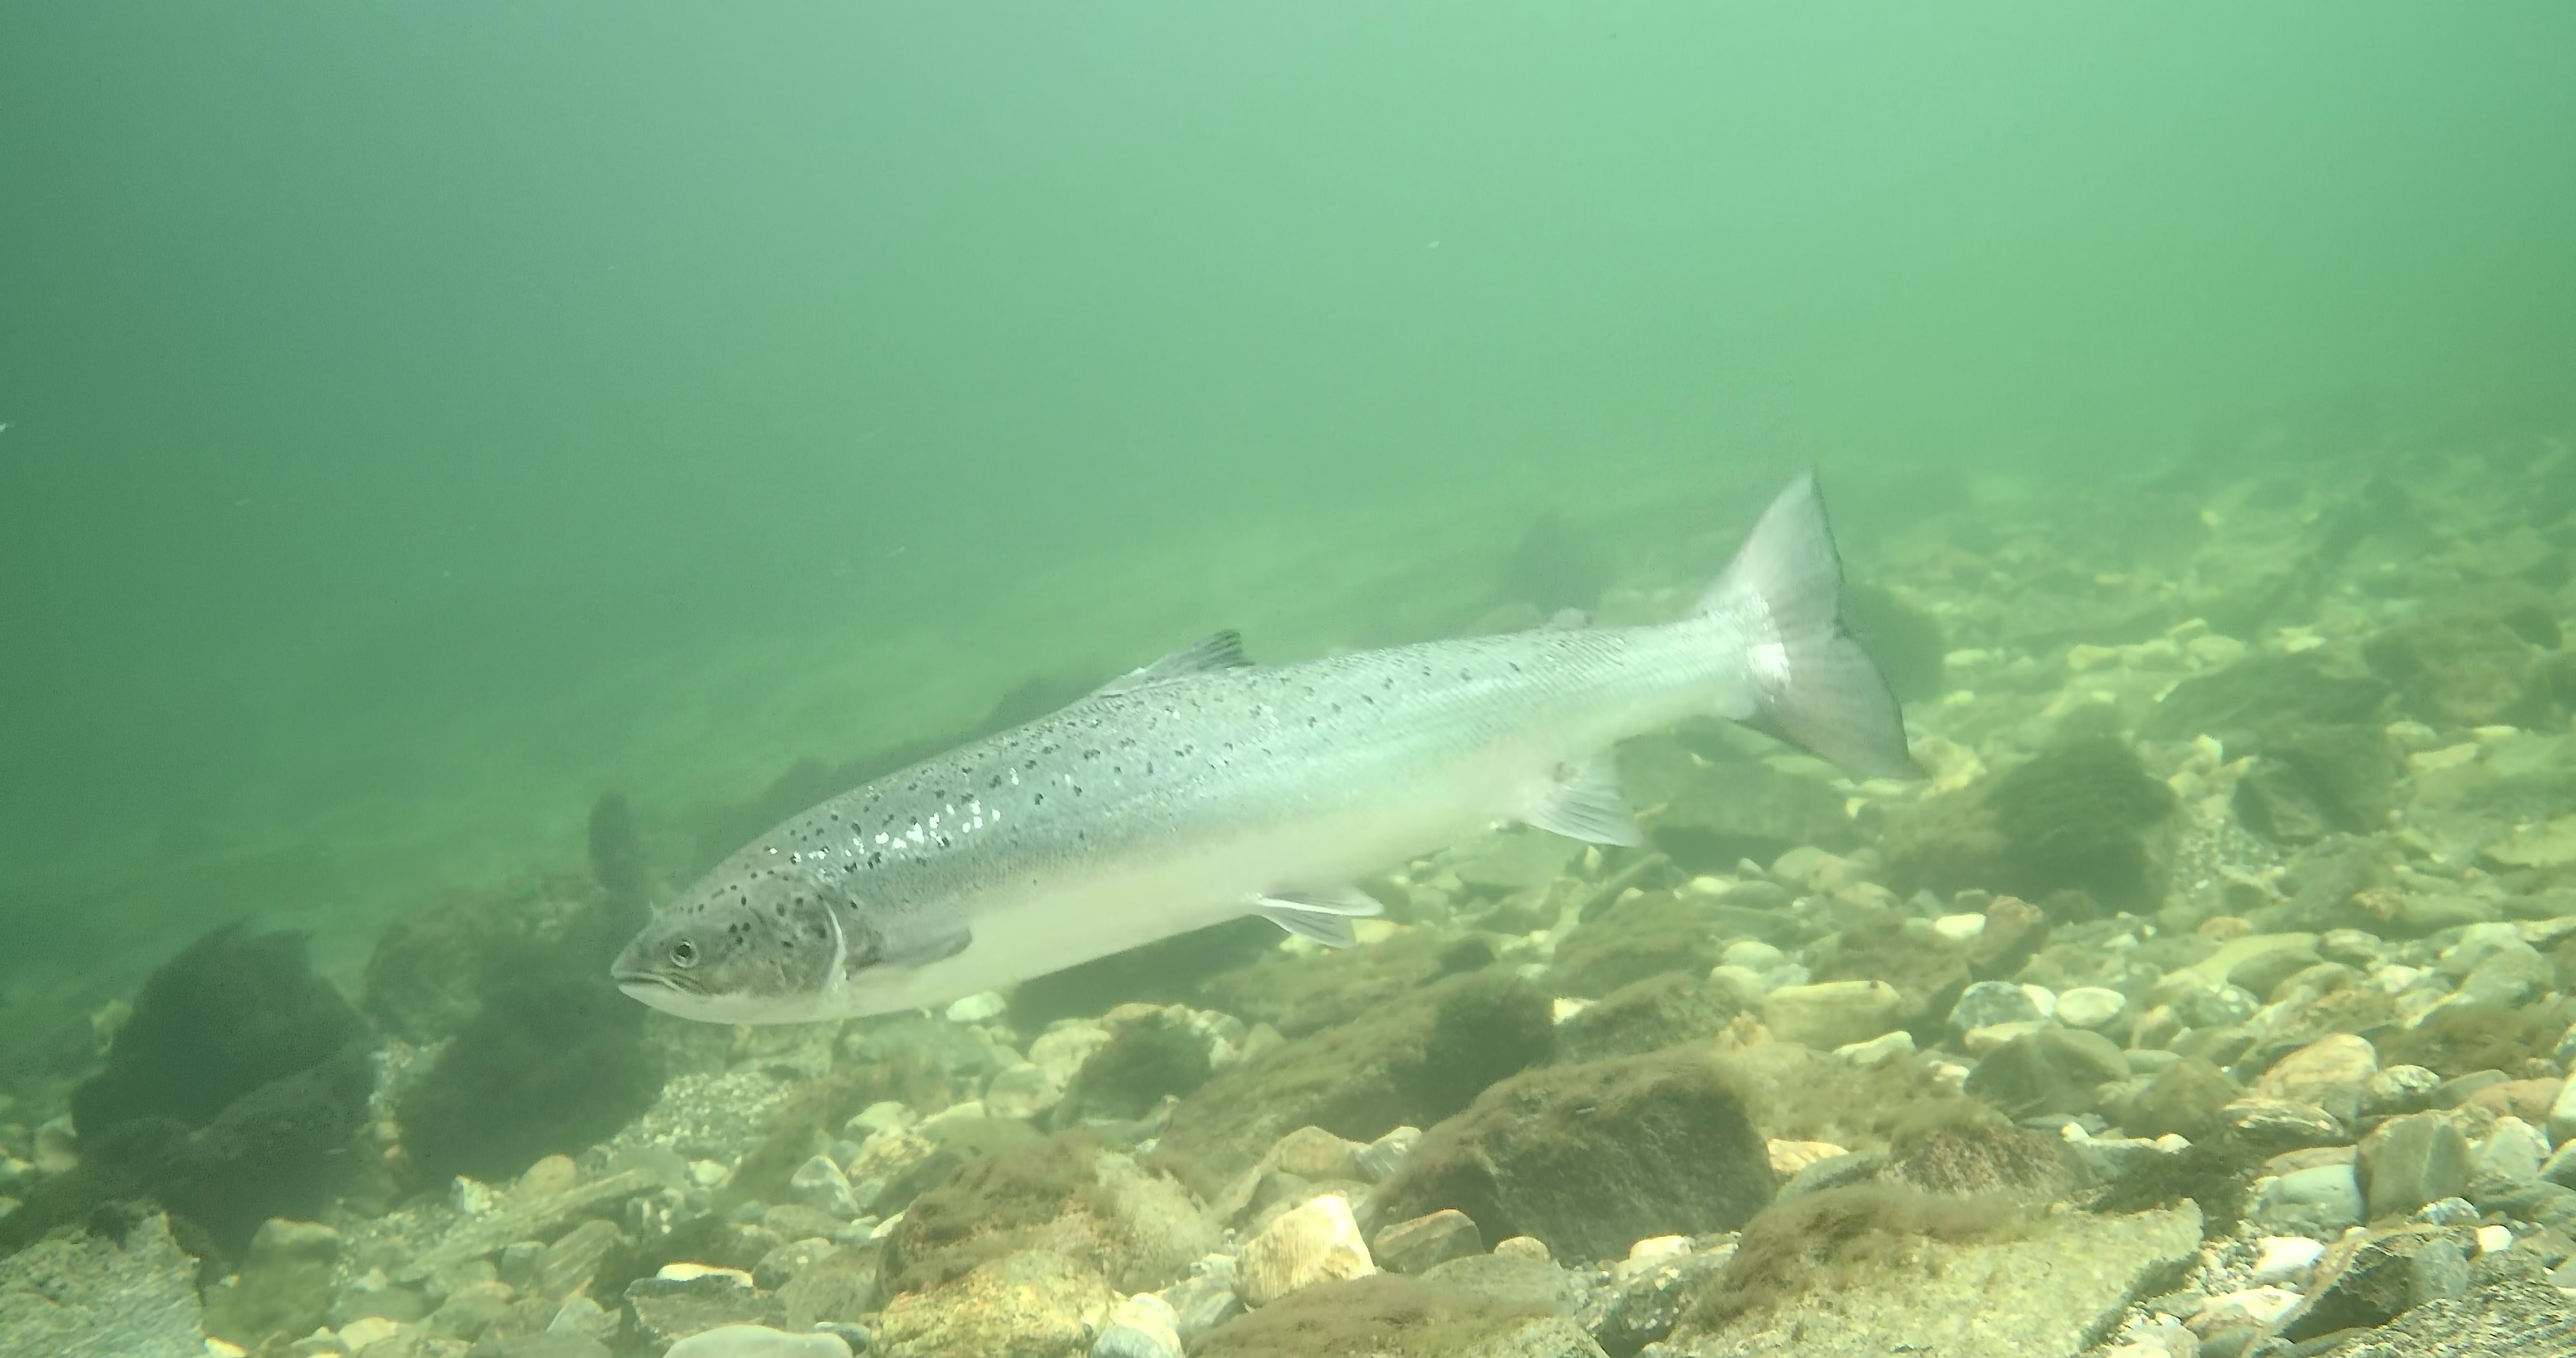salmon: (601, 463, 1929, 1026)
